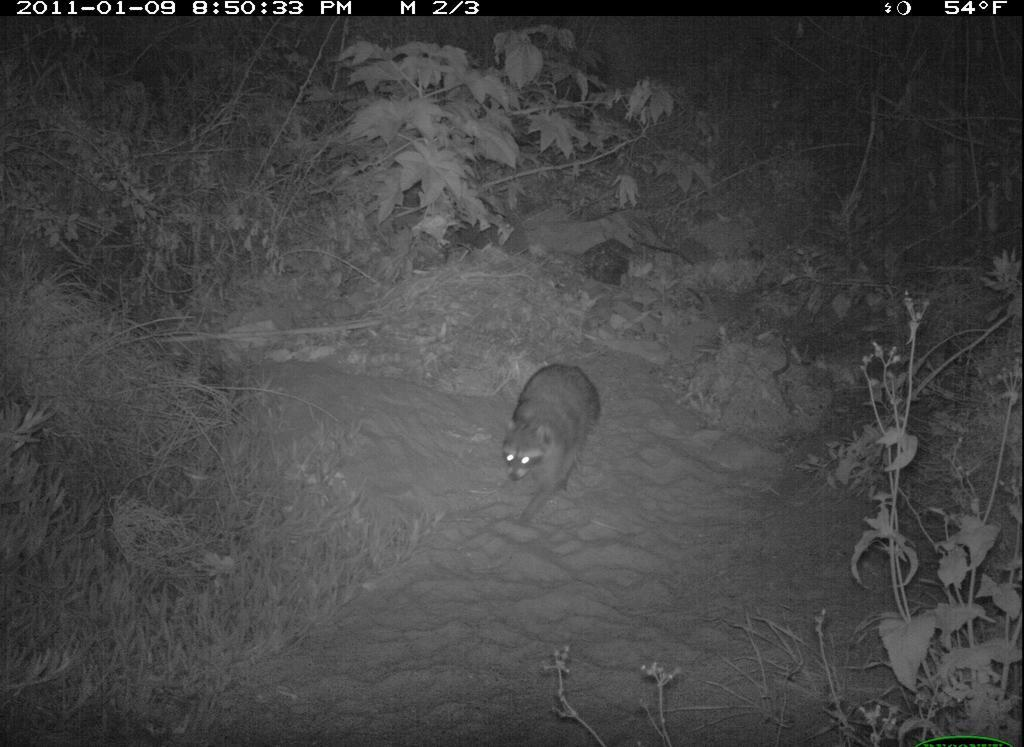raccoon: (460, 323, 603, 538)
